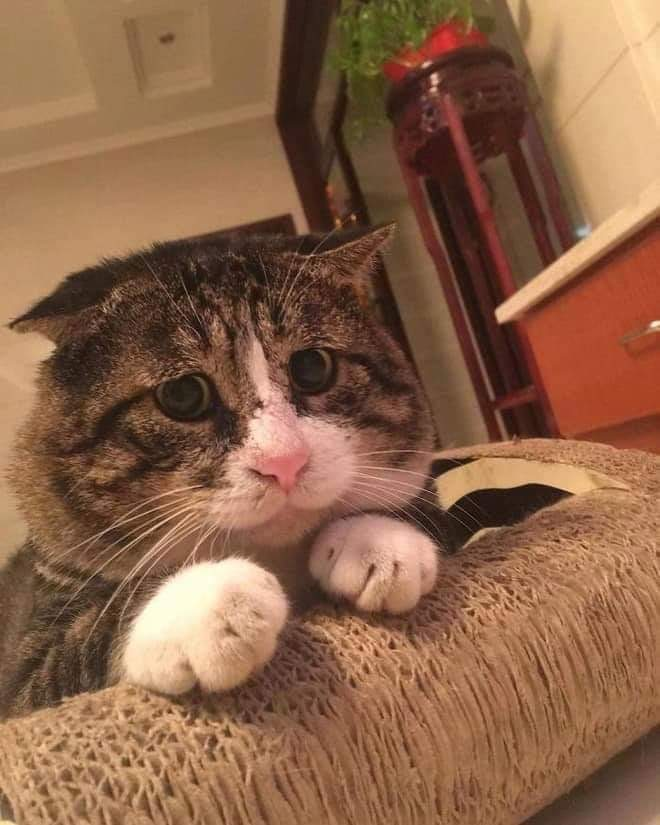cat: (6, 224, 439, 703)
